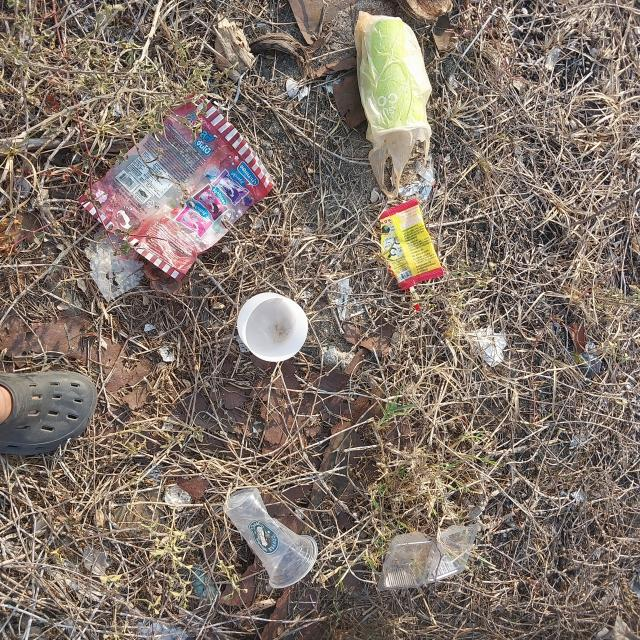Single-layer Plastic: (355, 11, 431, 199)
